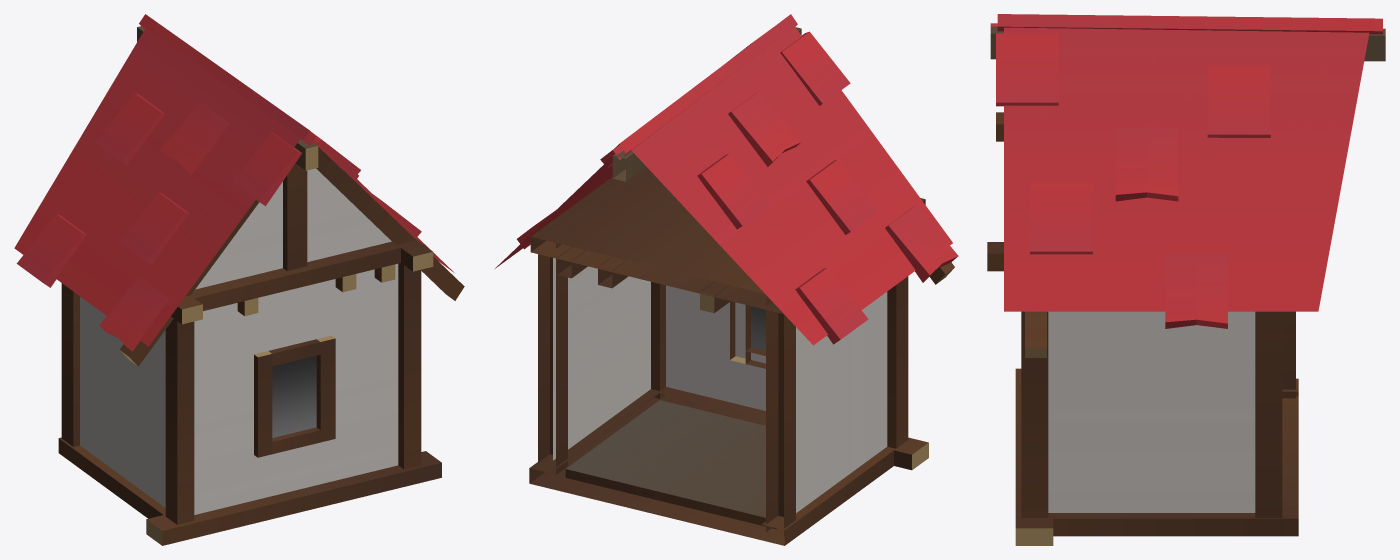
File: House_Piece_4.fbx
3 renders of one model, left to right at view 1: azimuth 30°, elevation 25°; view 2: azimuth 150°, elevation 25°; view 3: azimuth 270°, elevation 25°, orthographic. The views are drawn at different scales.
Parts seen in each view (by area): view 1: polySurface9704; view 2: polySurface9704; view 3: polySurface9704.
Boxes of the visible parts, x1,y1,x2,y2 form: polySurface9704: (14, 14, 464, 545); polySurface9704: (495, 14, 958, 545); polySurface9704: (987, 14, 1385, 545).
Size of the model in its own units: 355 by 387 by 309.
